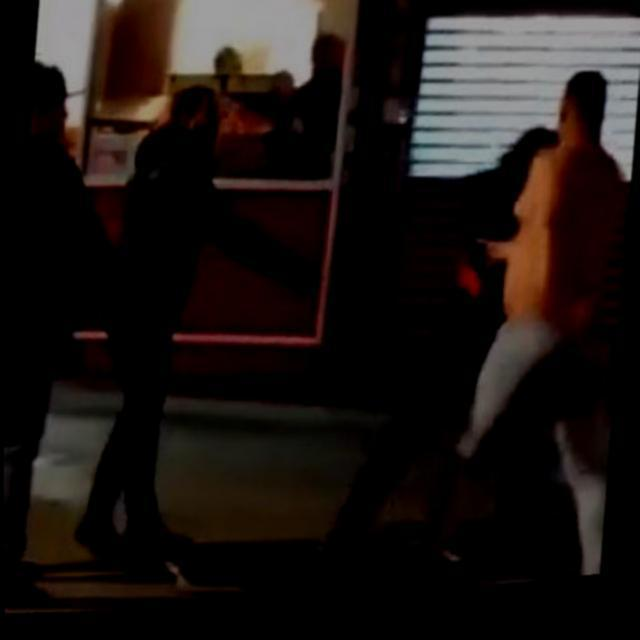fight: (420, 67, 634, 604)
